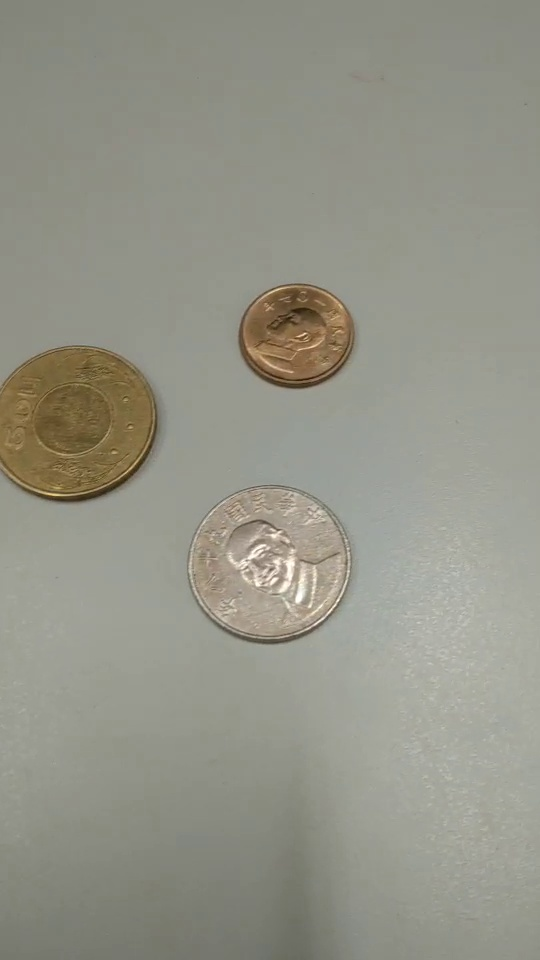NT$ 1: (237, 284, 358, 388)
NT$ 10: (189, 485, 351, 645)
NT$ 50: (1, 344, 158, 501)
